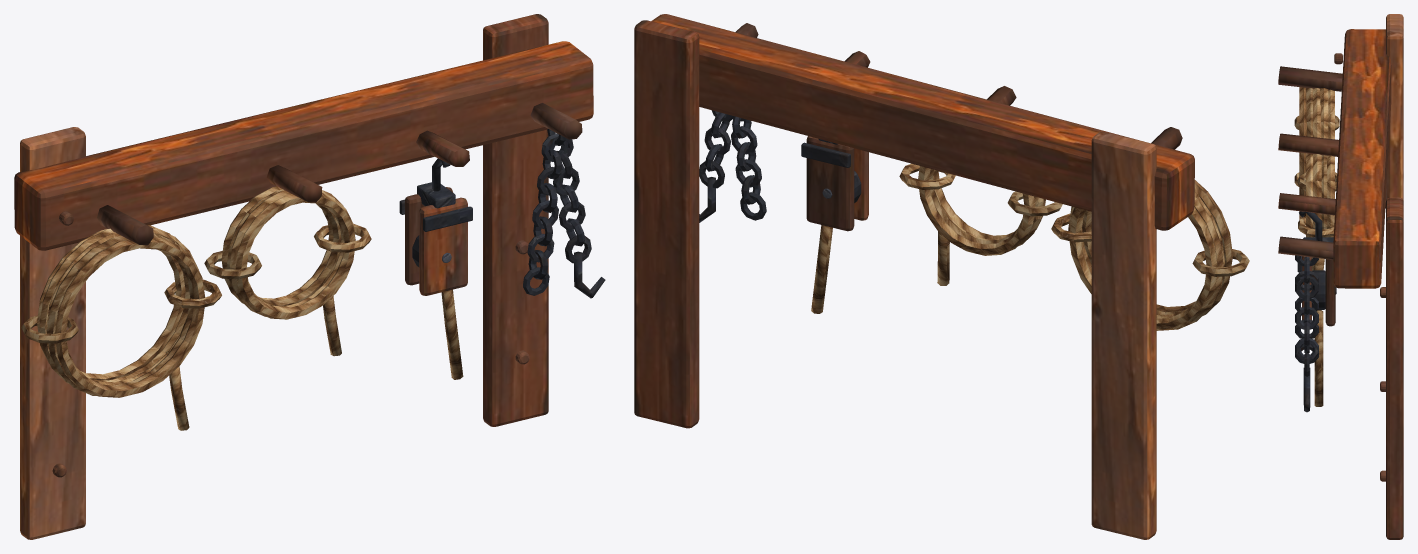
File: mp_rope_rack.glb
3 views of the same model, side by side, from view 1: azimuth 30°, elevation 25°; view 2: azimuth 150°, elevation 25°; view 3: azimuth 270°, elevation 25° (orthographic). The views are drawn at different scales.
Parts seen in each view (by area): view 1: model; view 2: model; view 3: model.
Part boxes in pixels (box(x1,y1,x2,y2)): model: box(14, 14, 605, 539); model: box(634, 14, 1249, 539); model: box(1278, 14, 1403, 539).
Size of the model in its own units: 1.38 by 0.9 by 0.3179.
9 materials, 9 textured.
